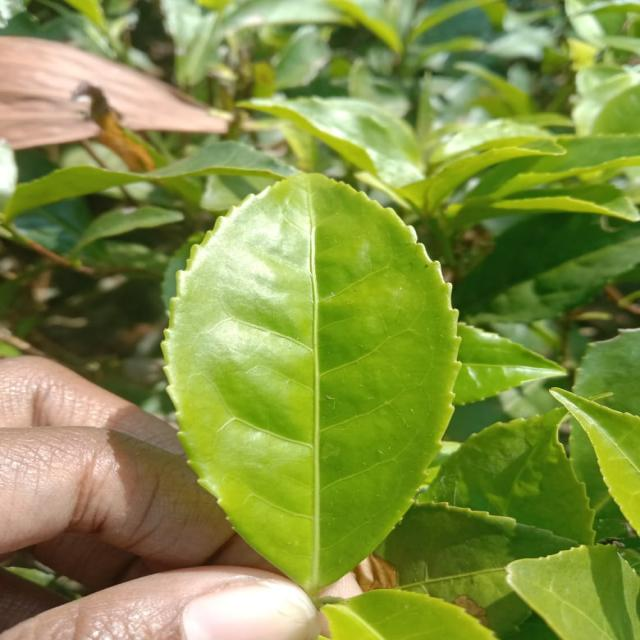Category B(2-4 days): (154, 164, 463, 610)
